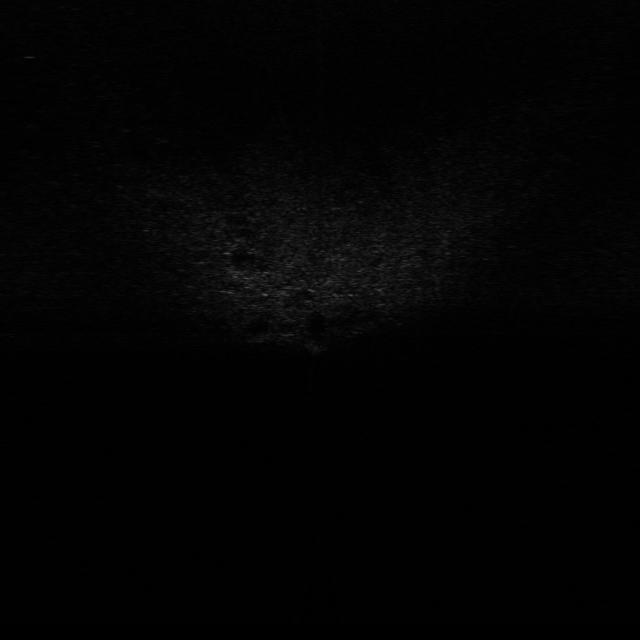cube: (304, 336, 332, 357)
